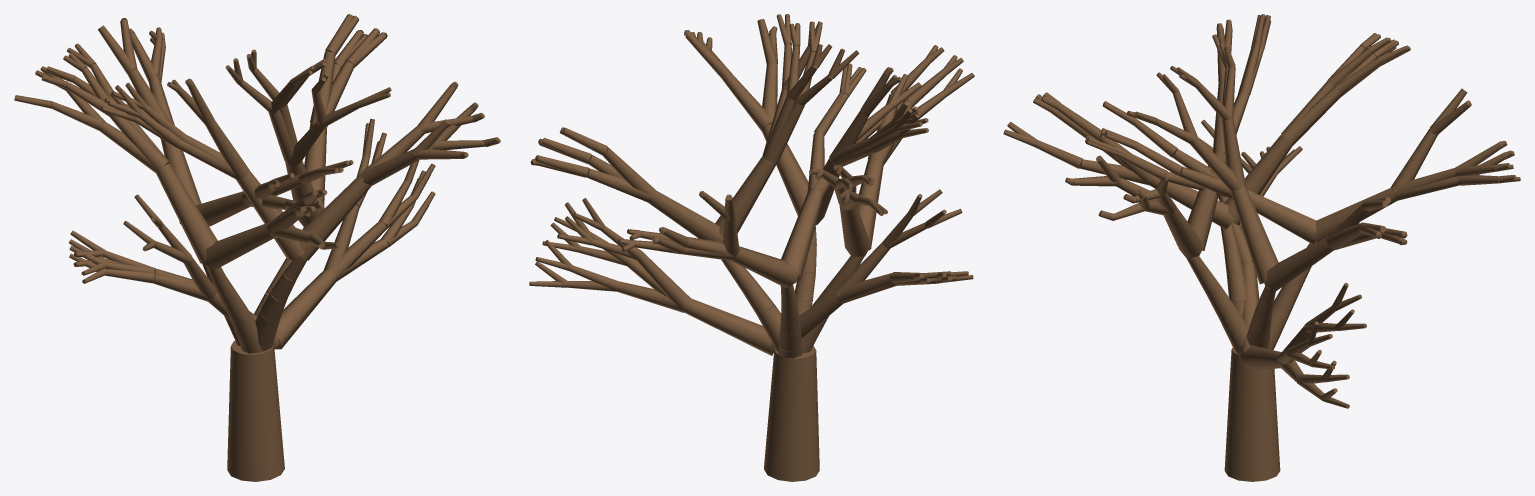
The model's file is diszalma-royalty-fa-tel.glb.
The picture shows the model from 3 angles, left to right: view 1: azimuth 30°, elevation 25°; view 2: azimuth 150°, elevation 25°; view 3: azimuth 270°, elevation 25°; orthographic projection. The views are drawn at different scales.
Visible parts, largest first — view 1: torzs, gally-6-1, gally-0-1, gally-9-2 (×2), gally-9-1, gally-6-2 (×2), gally-1-1, gally-0-2 (×2), gally-5-2 (×2), gally-8-2 (×2), gally-3-2 (×2), gally-4-2 (×2) (+9 smaller); view 2: torzs, gally-9-1, gally-2-1, gally-0-2 (×2), gally-9-2 (×2), gally-8-2 (×2), gally-4-2 (×2), gally-8-1, gally-3-1, gally-7-1, gally-3-2 (×2), gally-0-1 (+10 smaller); view 3: torzs, gally-7-2 (×3), gally-3-1, gally-3-2 (×2), gally-8-1, gally-2-1, gally-6-1, gally-5-1, gally-7-1, gally-0-1, gally-1-1, gally-6-2 (+5 smaller).
Part boxes in pixels (bbox=[...]): torzs: bbox=[227, 341, 284, 481]; gally-6-1: bbox=[156, 163, 217, 263]; gally-0-1: bbox=[294, 174, 371, 260]; gally-9-2 (×2): bbox=[324, 205, 386, 278]; gally-9-1: bbox=[274, 270, 337, 349]; gally-6-2 (×2): bbox=[99, 109, 168, 172]; gally-1-1: bbox=[204, 222, 275, 269]; gally-0-2 (×2): bbox=[361, 125, 424, 186]; gally-5-2 (×2): bbox=[177, 120, 249, 180]; gally-8-2 (×2): bbox=[310, 51, 353, 126]; gally-3-2 (×2): bbox=[268, 109, 325, 166]; gally-4-2 (×2): bbox=[153, 257, 217, 301]; torzs: bbox=[764, 346, 819, 481]; gally-9-1: bbox=[683, 299, 774, 355]; gally-2-1: bbox=[781, 188, 823, 280]; gally-0-2 (×2): bbox=[719, 62, 777, 130]; gally-9-2 (×2): bbox=[616, 252, 691, 312]; gally-8-2 (×2): bbox=[586, 147, 655, 202]; gally-4-2 (×2): bbox=[835, 243, 893, 301]; gally-8-1: bbox=[648, 190, 723, 241]; gally-3-1: bbox=[715, 156, 777, 237]; gally-7-1: bbox=[731, 246, 798, 287]; gally-3-2 (×2): bbox=[762, 95, 805, 163]; gally-0-1: bbox=[762, 123, 808, 215]; torzs: bbox=[1224, 347, 1280, 481]; gally-7-2 (×3): bbox=[1390, 129, 1460, 200]; gally-3-1: bbox=[1230, 186, 1278, 284]; gally-3-2 (×2): bbox=[1190, 117, 1245, 192]; gally-8-1: bbox=[1264, 236, 1334, 291]; gally-2-1: bbox=[1247, 190, 1316, 243]; gally-6-1: bbox=[1224, 134, 1292, 225]; gally-5-1: bbox=[1187, 152, 1226, 250]; gally-7-1: bbox=[1314, 187, 1397, 241]; gally-0-1: bbox=[1163, 207, 1204, 258]; gally-1-1: bbox=[1149, 177, 1234, 229]; gally-6-2: bbox=[1282, 86, 1341, 144].
Size of the model in its own units: 6.48 by 6.67 by 7.48.
